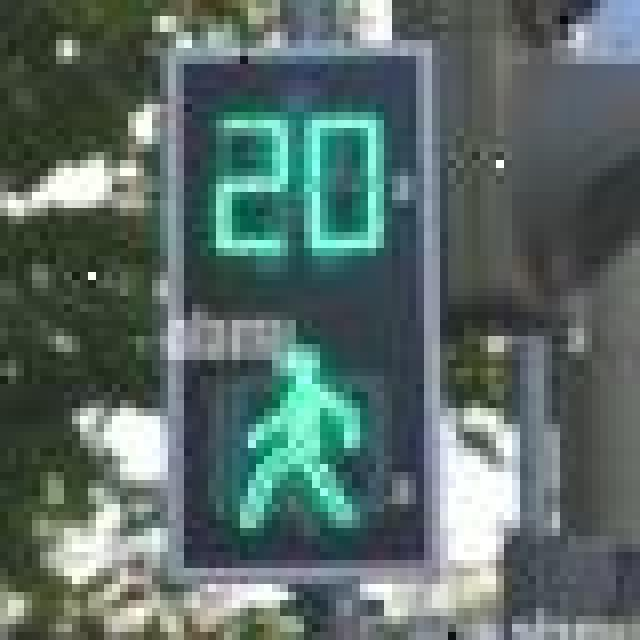greenlight: (120, 0, 448, 584)
